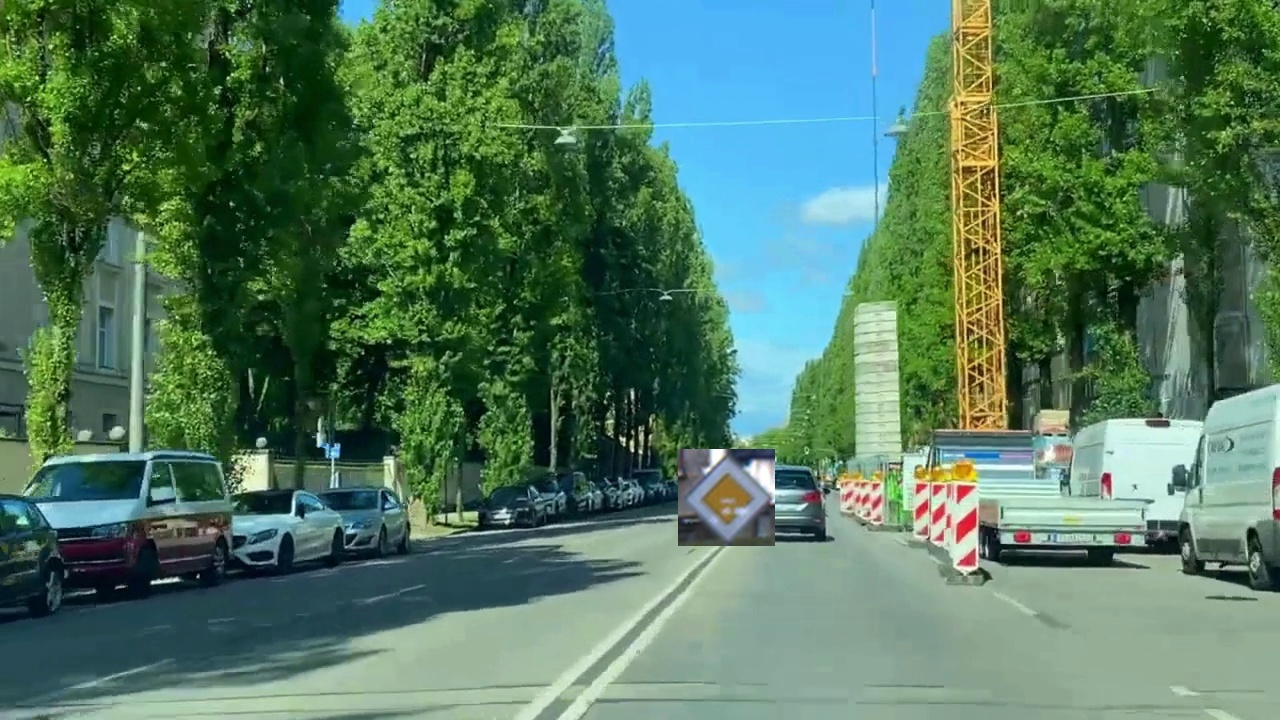Priority road: (678, 449, 775, 546)
